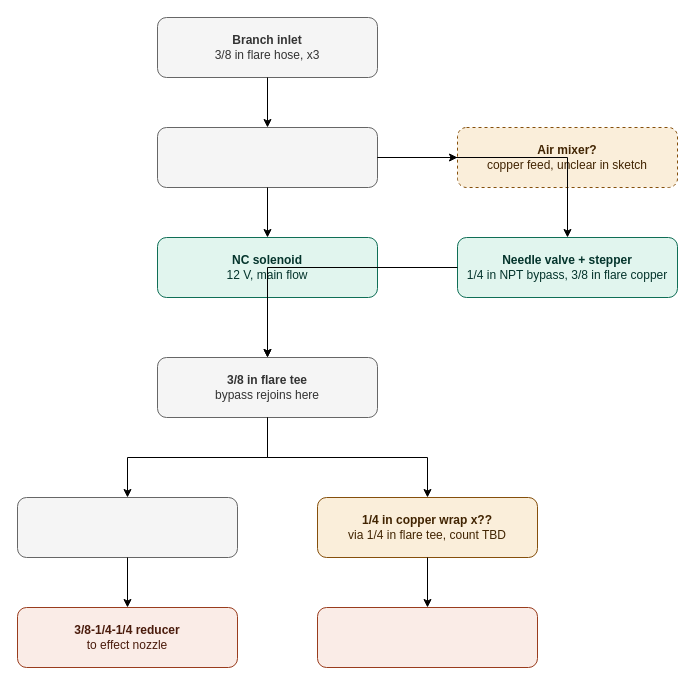
Image size: 695x685. Some labels were removed from this diagram. The shapes that lost their labels are listed below. From the top down, each one's centre as x and y in pixels, then its label:
At [267,157]: "1/4 in NPT manifold 3x outlets".
At [127,527]: "3/8 in copper wrap main effect run".
At [427,637]: "Steel wool pinhole pilot 1/4 in flare tee entry".
